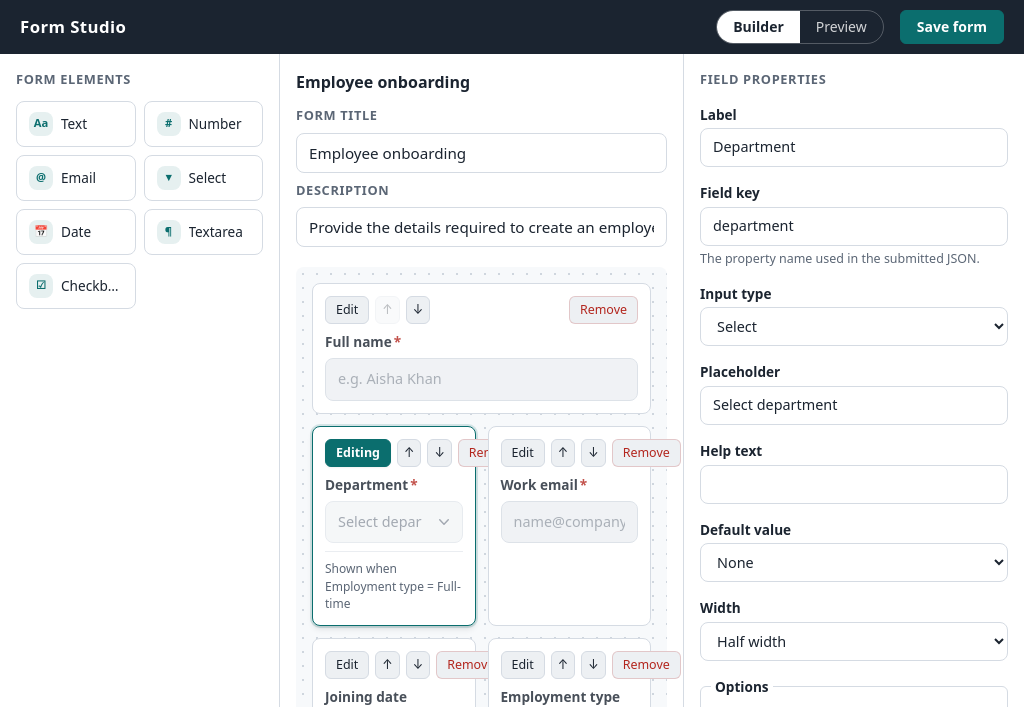
Test case: App: builder › selecting another field reveals its properties
The width and height of the screenshot is (1024, 707).
Click the button with aria-label "Edit Work email": (523, 453) 500,439 -> 545,467
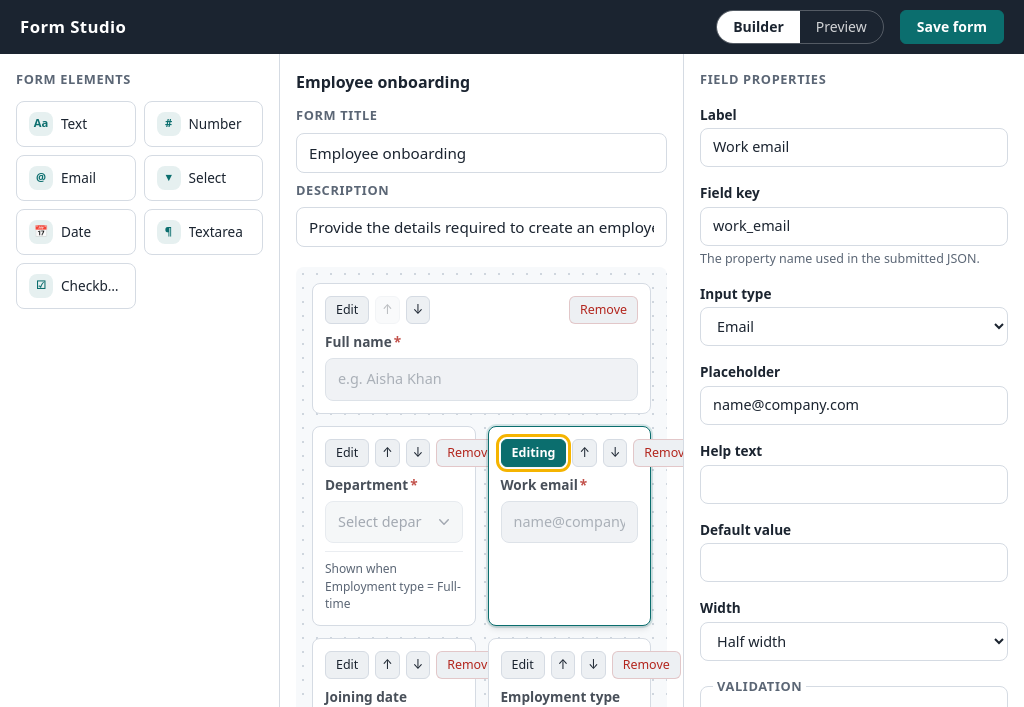
Expected: the field labelled "Label" holds "Work email", 700,128 -> 1008,167
Expected: the dropdown labelled "Input type" shows "Email", 700,308 -> 1008,346
